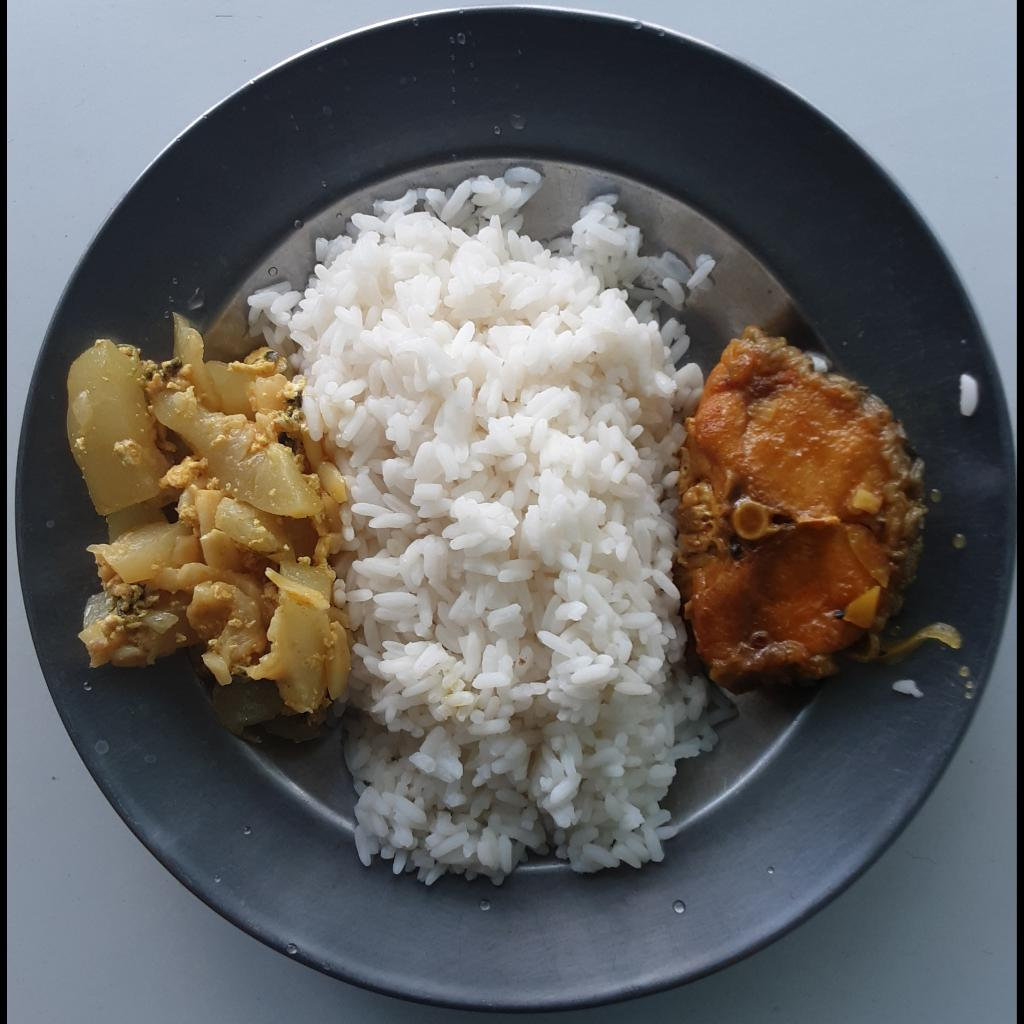fish: (673, 324, 965, 692)
papaya: (70, 316, 349, 715)
rice: (250, 169, 728, 896)
